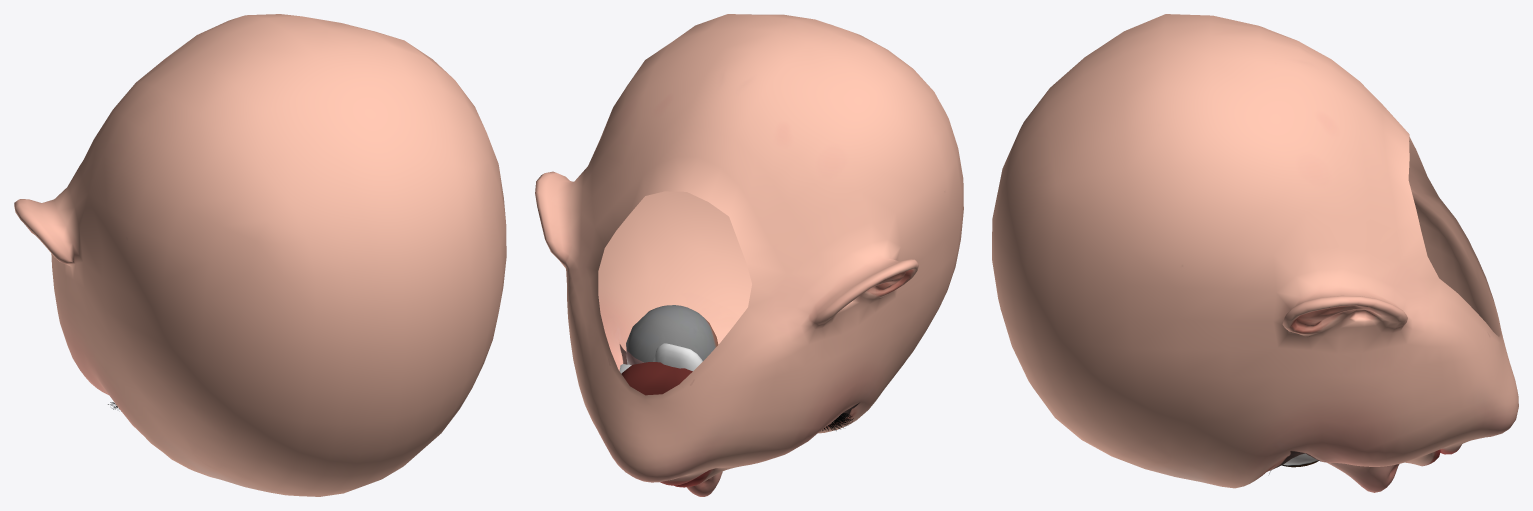
3 views of the same model, side by side, from view 1: azimuth 30°, elevation 25°; view 2: azimuth 150°, elevation 25°; view 3: azimuth 270°, elevation 25° (orthographic). The views are drawn at different scales.
Visible parts, largest first — view 1: F_01_Head; view 2: F_01_Head; view 3: F_01_Head.
Boxes of the visible parts, x1=… form: F_01_Head: x1=14, y1=14, x2=506, y2=496; F_01_Head: x1=535, y1=14, x2=963, y2=496; F_01_Head: x1=992, y1=14, x2=1518, y2=492.
Size of the model in its own units: 23.72 by 25.17 by 26.36.
